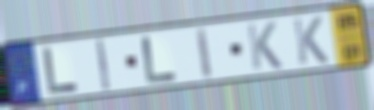I: (194, 25, 214, 80), (94, 37, 113, 92)
K: (290, 15, 331, 67), (244, 20, 285, 72)
L: (139, 34, 180, 85), (41, 45, 81, 97)
